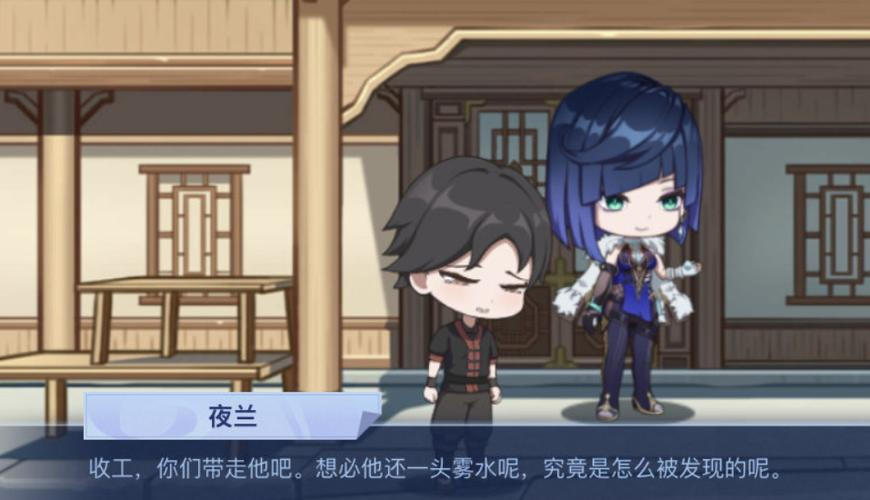夜兰: (542, 67, 706, 418)
